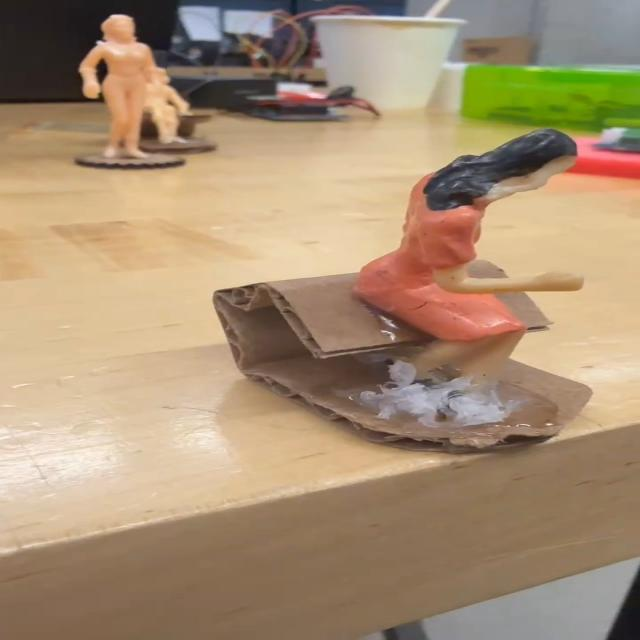Authorized: (164, 100, 610, 457)
